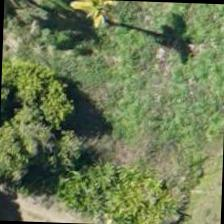Kelapa_Sawit: (37, 0, 130, 52)
